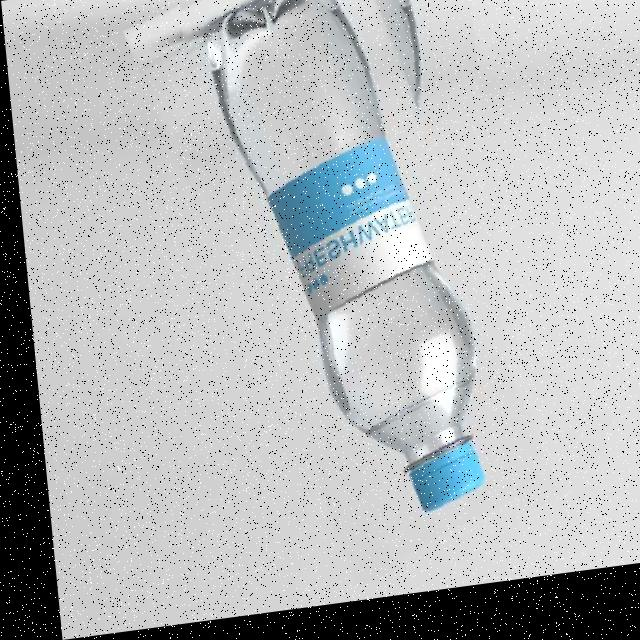litter: (159, 0, 511, 601), (302, 446, 433, 562)
